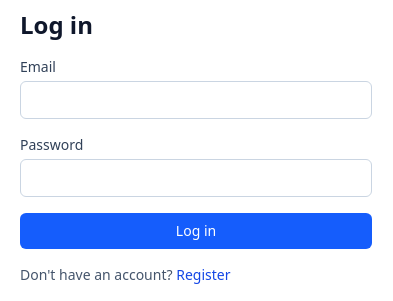
LoginForm › disables the submit button while submitting
This screenshot has width=393, height=301.
Type "student@example.org" into the field labelled "Email" at {"x": 196, "y": 100}, box [20,81,372,119]
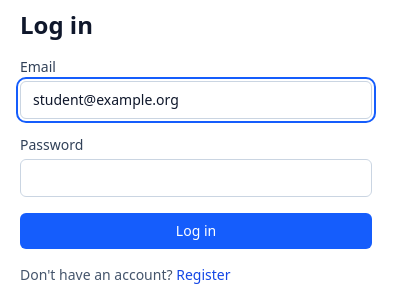
Type "correcthorsebattery" into the password field labelled "Password" at {"x": 196, "y": 178}, box [20,159,372,197]
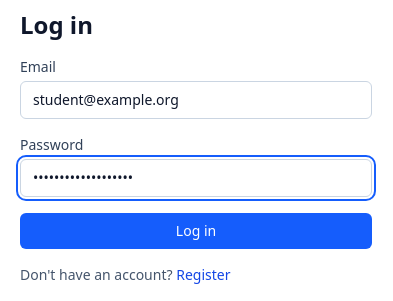
Click the button "Log in" at {"x": 196, "y": 231}, box [20,213,372,249]
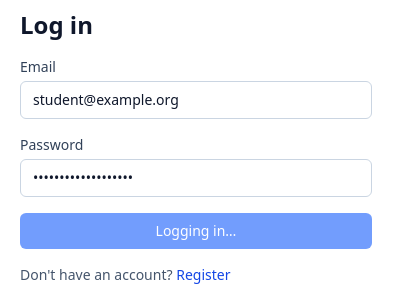
Check: the button "Logging in…" is disabled, box [20,213,372,249]
